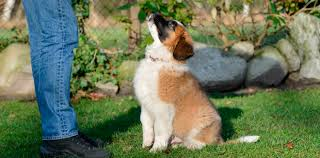dog_sitting: (132, 11, 225, 154)
